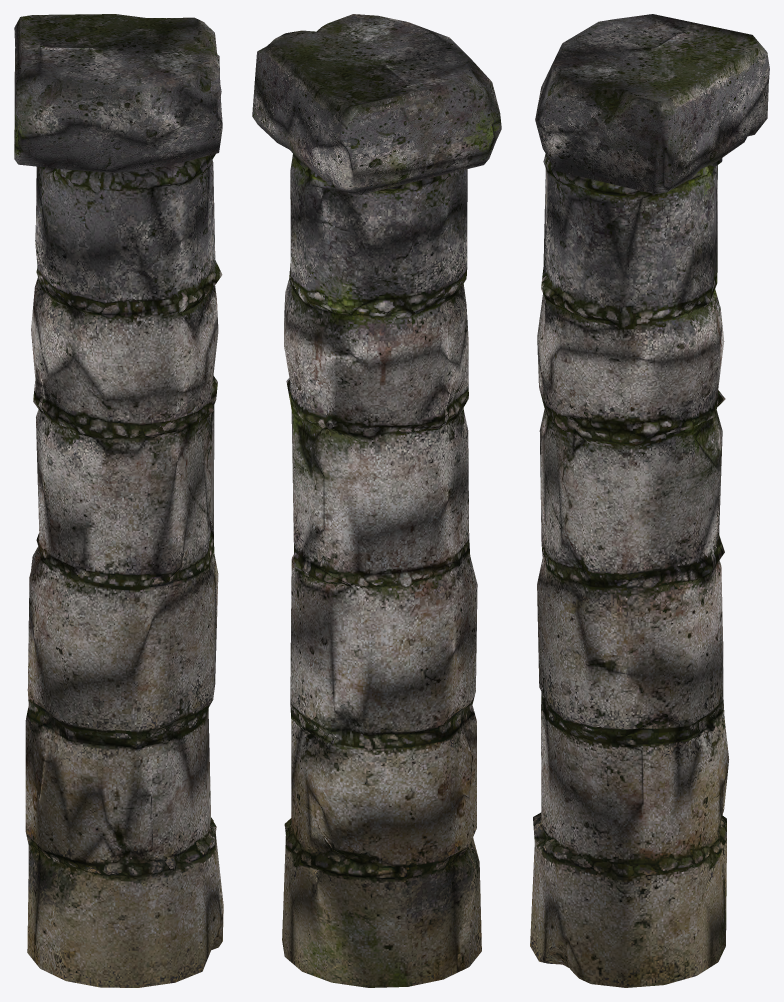
Rendered from vaal-pillar.glb.
3 renders of one model, left to right at view 1: azimuth 30°, elevation 25°; view 2: azimuth 150°, elevation 25°; view 3: azimuth 270°, elevation 25°, orthographic.
Visible parts, largest first — view 1: vaal-pillar_mesh; view 2: vaal-pillar_mesh; view 3: vaal-pillar_mesh.
Part boxes in pixels (x1=…): vaal-pillar_mesh: x1=14, y1=14, x2=223, y2=987; vaal-pillar_mesh: x1=252, y1=14, x2=501, y2=987; vaal-pillar_mesh: x1=530, y1=14, x2=769, y2=987.
Bounding box in the file's own units: 0.8284 × 3.18 × 0.7756.
1 material, 1 textured.
